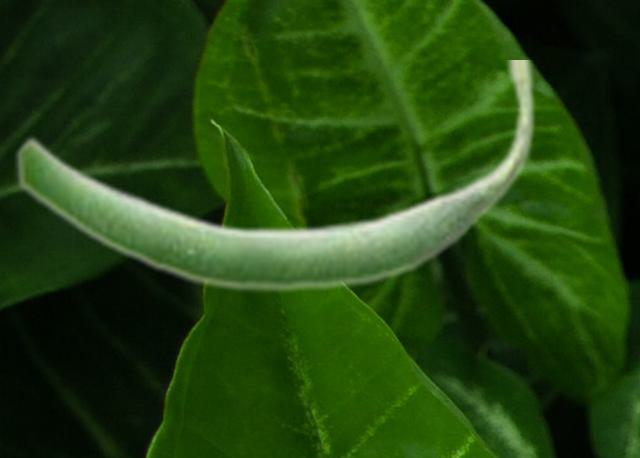french_bean: (14, 60, 536, 294)
